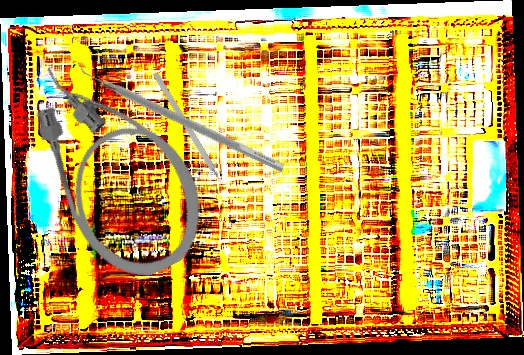Cannula: (9, 32, 224, 295)
Hook Surgical: (152, 71, 229, 193)
Spatula Surgical: (71, 57, 290, 173)
